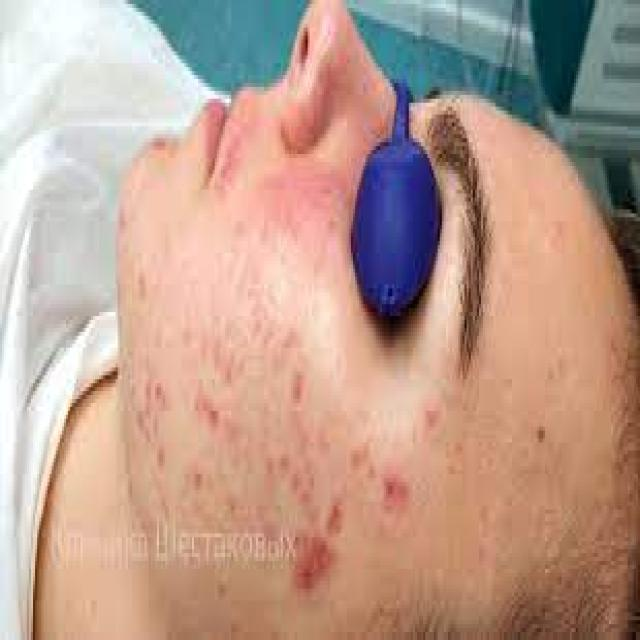Acne: (289, 526, 333, 599), (382, 467, 413, 512)
